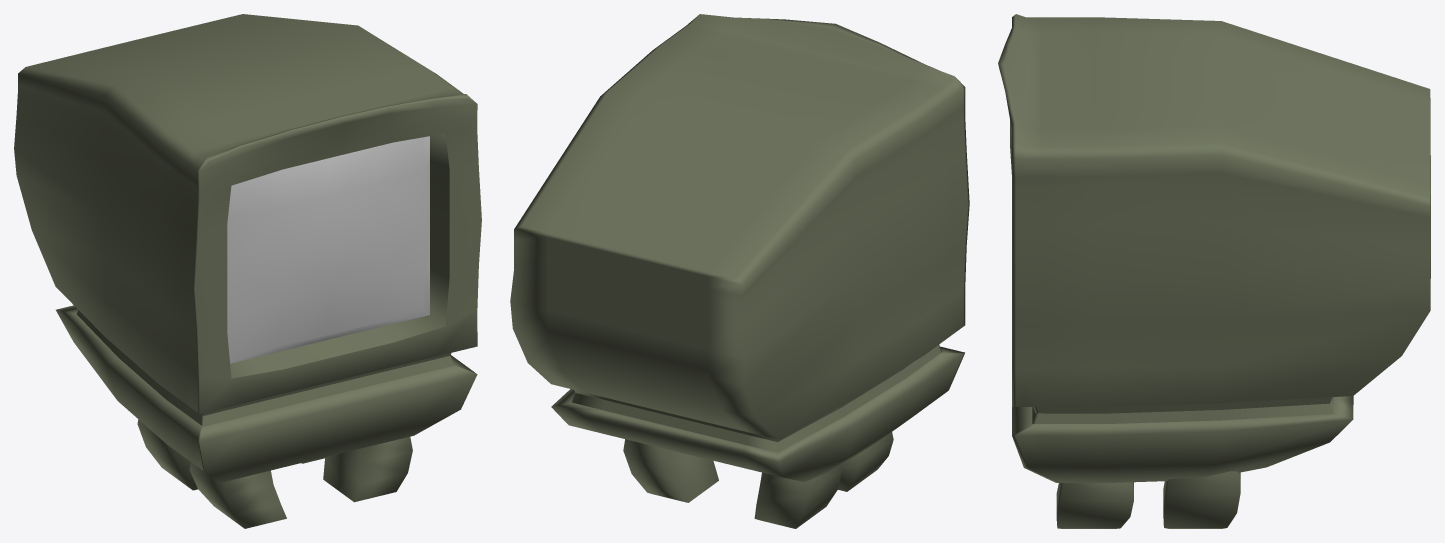
File: SM_PeacE.fbx
3 renders of one model, left to right at view 1: azimuth 30°, elevation 25°; view 2: azimuth 150°, elevation 25°; view 3: azimuth 270°, elevation 25°, orthographic. The views are drawn at different scales.
Visible parts, largest first — view 1: SM_PeacE, leg2, leg1, leg3; view 2: SM_PeacE, leg4, leg3, leg1; view 3: SM_PeacE, leg4, leg2.
Part boxes in pixels (<box>): SM_PeacE: <box>14,14,481,482</box>; leg2: <box>323,436,412,502</box>; leg1: <box>189,462,286,528</box>; leg3: <box>137,419,197,490</box>; SM_PeacE: <box>510,14,969,481</box>; leg4: <box>623,439,718,502</box>; leg3: <box>754,464,842,528</box>; leg1: <box>838,432,893,491</box>; SM_PeacE: <box>998,14,1430,482</box>; leg4: <box>1163,471,1240,528</box>; leg2: <box>1056,482,1133,528</box>.
Size of the model in its own units: 0.8066 by 1.12 by 1.03.
